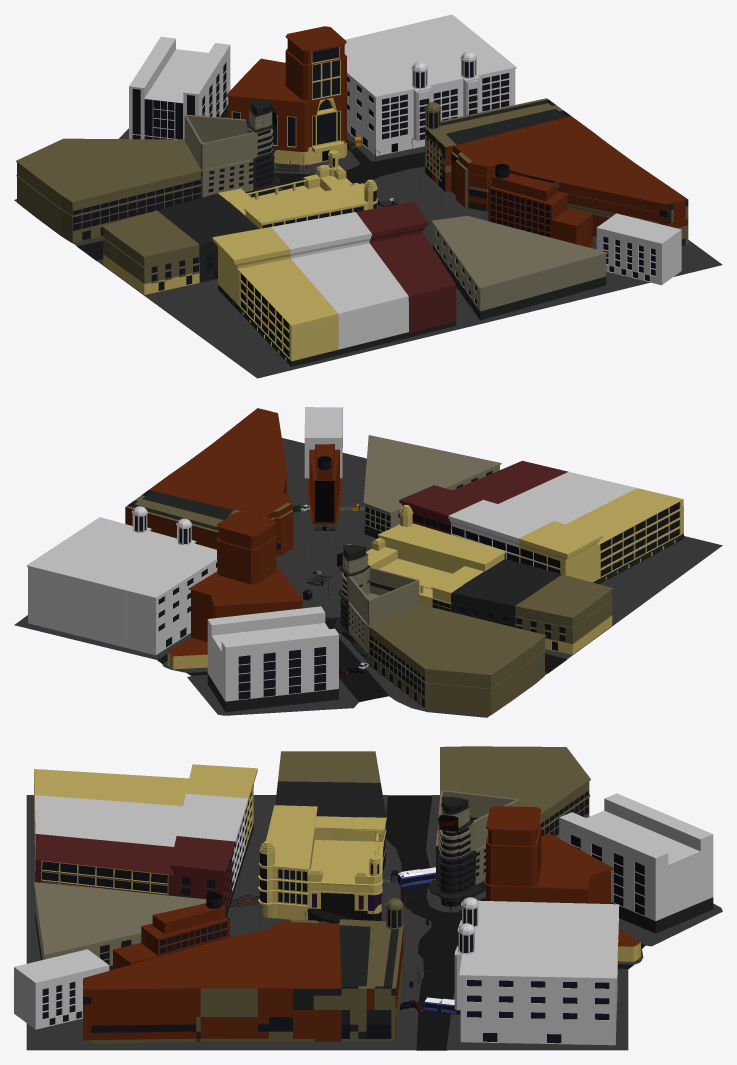
The model's file is esc_Callao 1.fbx.
The picture shows the model from 3 angles, top to bottom: view 1: azimuth 30°, elevation 25°; view 2: azimuth 150°, elevation 25°; view 3: azimuth 270°, elevation 25°; orthographic projection. The views are drawn at different scales.
Visible parts, largest first — view 1: Edif_8, Edif_7, Suelo, Edif_3, Edif_4, Edif_9, Edif_2, Edif_5, Edif_1, Edif_10, FNACTecho, CapitolMed (+5 smaller); view 2: Edif_8, Edif_3, Suelo, Edif_4, Edif_7, Edif_1, Edif_5, Edif_2, Edif_9, Edif_6, CapitolMed, Cines (+5 smaller); view 3: Edif_7, Suelo, Edif_8, Edif_3, Edif_1, Edif_2, Edif_4, Edif_9, Cines, Edif_5, Edif_6, Edif_10 (+9 smaller).
Boxes of the visible parts, x1=… form: Edif_8: x1=212, y1=201, x2=456, y2=366; Edif_7: x1=425, y1=98, x2=688, y2=245; Suelo: x1=14, y1=115, x2=722, y2=378; Edif_3: x1=344, y1=14, x2=516, y2=156; Edif_4: x1=16, y1=138, x2=204, y2=243; Edif_9: x1=431, y1=215, x2=607, y2=320; Edif_2: x1=225, y1=26, x2=348, y2=165; Edif_5: x1=101, y1=193, x2=259, y2=294; Edif_1: x1=129, y1=37, x2=230, y2=139; Edif_10: x1=596, y1=213, x2=681, y2=285; FNACTecho: x1=488, y1=184, x2=594, y2=247; CapitolMed: x1=184, y1=114, x2=273, y2=169; Edif_8: x1=399, y1=460, x2=683, y2=584; Edif_3: x1=26, y1=517, x2=217, y2=655; Suelo: x1=14, y1=438, x2=722, y2=717; Edif_4: x1=367, y1=604, x2=546, y2=715; Edif_7: x1=125, y1=408, x2=293, y2=555; Edif_1: x1=207, y1=606, x2=338, y2=712; Edif_5: x1=451, y1=559, x2=613, y2=654; Edif_2: x1=167, y1=511, x2=304, y2=669; Edif_9: x1=363, y1=435, x2=501, y2=538; Edif_6: x1=377, y1=504, x2=505, y2=573; CapitolMed: x1=341, y1=567, x2=419, y2=624; Cines: x1=347, y1=538, x2=483, y2=611; Edif_7: x1=83, y1=919, x2=403, y2=1043; Suelo: x1=26, y1=795, x2=722, y2=1050; Edif_8: x1=34, y1=764, x2=257, y2=915; Edif_3: x1=454, y1=900, x2=619, y2=1045; Edif_1: x1=559, y1=793, x2=713, y2=933; Edif_2: x1=483, y1=806, x2=640, y2=961; Edif_4: x1=440, y1=746, x2=590, y2=838; Edif_9: x1=34, y1=882, x2=206, y2=970; Cines: x1=307, y1=816, x2=386, y2=923; Edif_5: x1=275, y1=751, x2=386, y2=845; Edif_6: x1=258, y1=805, x2=317, y2=920; Edif_10: x1=14, y1=949, x2=109, y2=1029.
Bounding box in the file's own units: 283 × 85.02 × 331.
